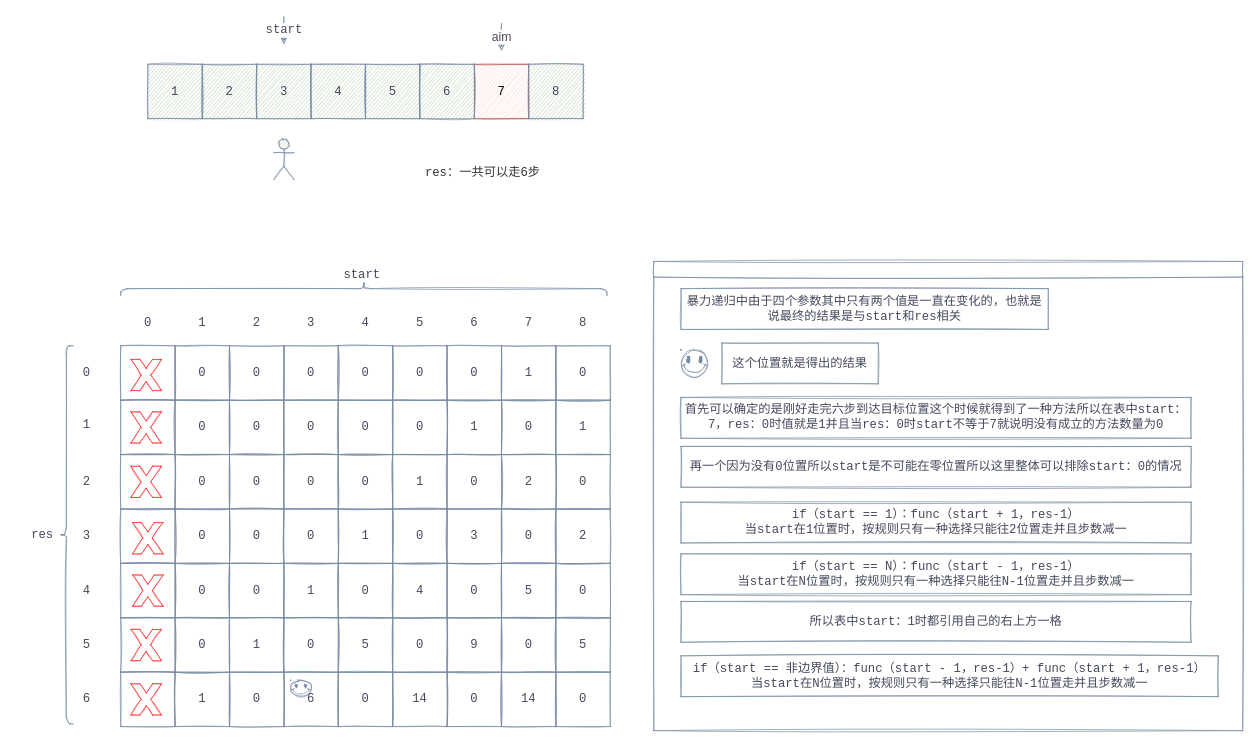
The diagram is 1255 pixels wide and 743 high, and some of its shapes have lost their labels. Here are the shapes that lost their labels. From the top down, the box of each, then its label:
(273, 138, 294, 180): robot
(653, 261, 1243, 731): 动态规划表依据
